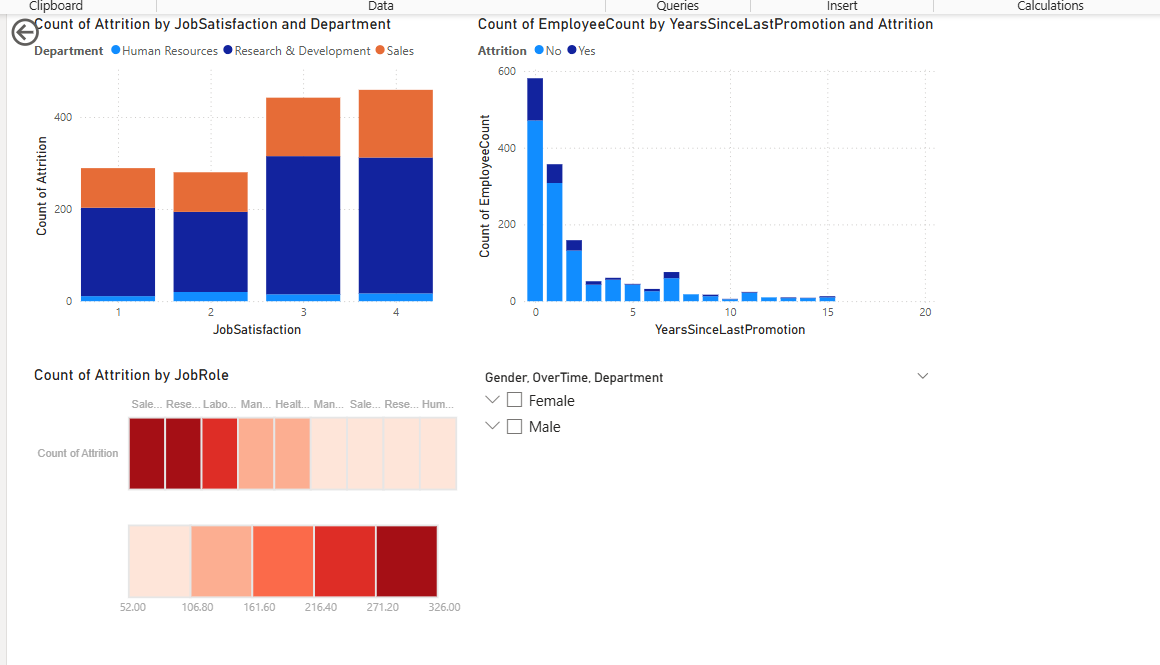

This screenshot's page, from the dashboard's own definition file:
{"tool":"powerbi","page":{"name":"Page 1","canvas":[1280,720],"ordinal":0},"visuals":[{"type":"columnChart","fields":{"Category":["Dataset.JobSatisfaction"],"Y":["CountNonNull(Dataset.Attrition)"],"Series":["Dataset.Department"]},"box":[24.7,0,448.7,359.5],"z":0},{"type":"actionButton","box":[0,0,100,40],"z":1000},{"type":"columnChart","fields":{"Series":["Dataset.Attrition"],"Category":["Dataset.YearsSinceLastPromotion"],"Y":["CountNonNull(Dataset.EmployeeCount)"]},"box":[511.8,0,513.2,359.5],"z":2000},{"type":"TableHeatMap1443716069308","fields":{"Y":["CountNonNull(Dataset.Attrition)"],"Category":["Dataset.JobRole"]},"box":[24.7,385.6,487.1,334.8],"z":3000},{"type":"slicer","fields":{"Values":["Dataset.Gender","Dataset.OverTime","Dataset.Department"]},"box":[512,386,513,334],"z":3001}]}

Visuals, with their boxes on the page's 1280x720 design canvas (x1, y1, x2, y2). These are canvas units, not pixel positions in the 1160x665 screenshot, which may show the page scaled, cropped or inside an application window:
columnChart - Dataset.JobSatisfaction x CountNonNull(Dataset.Attrition): box=[25, 0, 473, 360]
actionButton: box=[0, 0, 100, 40]
columnChart - Dataset.Attrition x Dataset.YearsSinceLastPromotion: box=[512, 0, 1025, 360]
TableHeatMap1443716069308 - CountNonNull(Dataset.Attrition) x Dataset.JobRole: box=[25, 386, 512, 720]
slicer - Dataset.Gender x Dataset.OverTime: box=[512, 386, 1025, 720]
